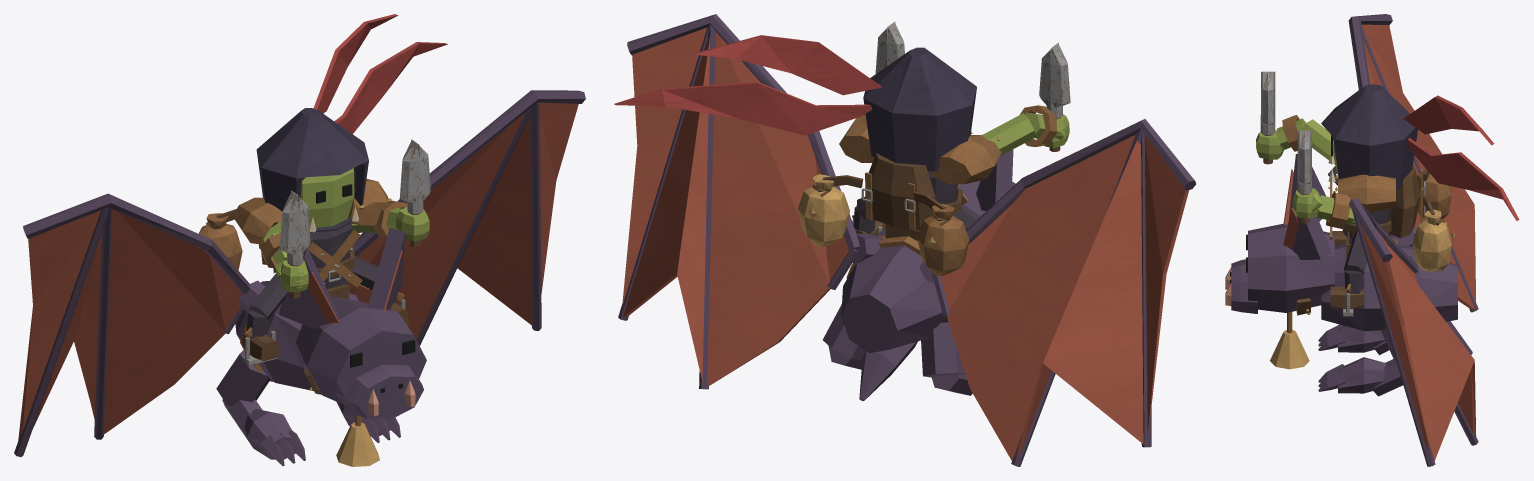
File: host_48.glb
3 views of the same model, side by side, from view 1: azimuth 30°, elevation 25°; view 2: azimuth 150°, elevation 25°; view 3: azimuth 270°, elevation 25° (orthographic). The views are drawn at different scales.
Parts seen in each view (by area): view 1: Bat source connected muzzle, skull, native limbs and membran, Rider one connected body, skull, ears, two arms, compact pal, Rider true deep peaked open source cowl, Host48 broad swept RED cloth streamer 2, Host48 broad swept RED cloth streamer 1, Rider RIGHT source weapon real volumetric blade, Rider LEFT source dagger real volumetric blade, Rider actual convex three-plane source pauldron 1, Source actual flared hollow gold bell 0, Host48 source tied bulbous purse 1, Rider actual convex three-plane source pauldron -1, Rider real shaped source torso clothing shell (+2 smaller); view 2: Bat source connected muzzle, skull, native limbs and membran, Rider true deep peaked open source cowl, Host48 broad swept RED cloth streamer 2, Host48 broad swept RED cloth streamer 1, Rider actual source broad rear leather pack, Rider one connected body, skull, ears, two arms, compact pal, Host48 source tied bulbous purse 1, Host48 source tied bulbous purse -1, Rider actual convex three-plane source pauldron 1, Rider RIGHT source weapon real volumetric blade, Rider actual convex three-plane source pauldron -1, Rider LEFT source dagger real volumetric blade (+1 smaller); view 3: Bat source connected muzzle, skull, native limbs and membran, Rider true deep peaked open source cowl, Rider one connected body, skull, ears, two arms, compact pal, Host48 broad swept RED cloth streamer 2, Host48 source tied bulbous purse -1, Host48 broad swept RED cloth streamer 1, Rider actual convex three-plane source pauldron -1, Rider actual source broad rear leather pack, Source actual flared hollow gold bell 0, Host48 source tied bulbous purse 1, Rider LEFT source dagger real volumetric blade, Rider RIGHT source weapon real volumetric blade (+3 smaller).
Part boxes in pixels (box(x1,y1,x2,y2)): Bat source connected muzzle, skull, native limbs and membran: box(14, 90, 585, 465); Rider one connected body, skull, ears, two arms, compact pal: box(242, 168, 429, 361); Rider true deep peaked open source cowl: box(256, 108, 368, 232); Host48 broad swept RED cloth streamer 2: box(334, 42, 447, 133); Host48 broad swept RED cloth streamer 1: box(313, 14, 398, 113); Rider RIGHT source weapon real volumetric blade: box(279, 190, 310, 255); Rider LEFT source dagger real volumetric blade: box(399, 139, 430, 203); Rider actual convex three-plane source pauldron 1: box(232, 197, 282, 244); Source actual flared hollow gold bell 0: box(336, 422, 379, 466); Host48 source tied bulbous purse 1: box(198, 213, 242, 270); Rider actual convex three-plane source pauldron -1: box(348, 179, 389, 225); Rider real shaped source torso clothing shell: box(303, 223, 352, 289); Bat source connected muzzle, skull, native limbs and membran: box(618, 14, 1196, 466); Rider true deep peaked open source cowl: box(863, 47, 976, 171); Host48 broad swept RED cloth streamer 2: box(614, 81, 872, 135); Host48 broad swept RED cloth streamer 1: box(693, 35, 881, 95); Rider actual source broad rear leather pack: box(868, 153, 935, 230); Rider one connected body, skull, ears, two arms, compact pal: box(853, 112, 1069, 236); Host48 source tied bulbous purse 1: box(917, 203, 969, 276); Host48 source tied bulbous purse -1: box(798, 174, 849, 247); Rider actual convex three-plane source pauldron 1: box(930, 135, 1001, 184); Rider RIGHT source weapon real volumetric blade: box(1039, 43, 1070, 107); Rider actual convex three-plane source pauldron -1: box(839, 115, 874, 162); Rider LEFT source dagger real volumetric blade: box(875, 22, 904, 73); Bat source connected muzzle, skull, native limbs and membran: box(1225, 14, 1478, 466); Rider true deep peaked open source cowl: box(1321, 84, 1417, 189); Rider one connected body, skull, ears, two arms, compact pal: box(1256, 118, 1367, 308); Host48 broad swept RED cloth streamer 2: box(1407, 138, 1519, 220); Host48 source tied bulbous purse -1: box(1412, 209, 1451, 271); Host48 broad swept RED cloth streamer 1: box(1403, 95, 1494, 145); Rider actual convex three-plane source pauldron -1: box(1338, 174, 1395, 213); Rider actual source broad rear leather pack: box(1389, 165, 1420, 238); Source actual flared hollow gold bell 0: box(1270, 330, 1309, 369); Host48 source tied bulbous purse 1: box(1417, 169, 1451, 220); Rider LEFT source dagger real volumetric blade: box(1297, 130, 1311, 184); Rider RIGHT source weapon real volumetric blade: box(1261, 71, 1275, 125).
Size of the model in its own units: 4.71 by 2.87 by 2.43.
30 materials, 28 textured.
